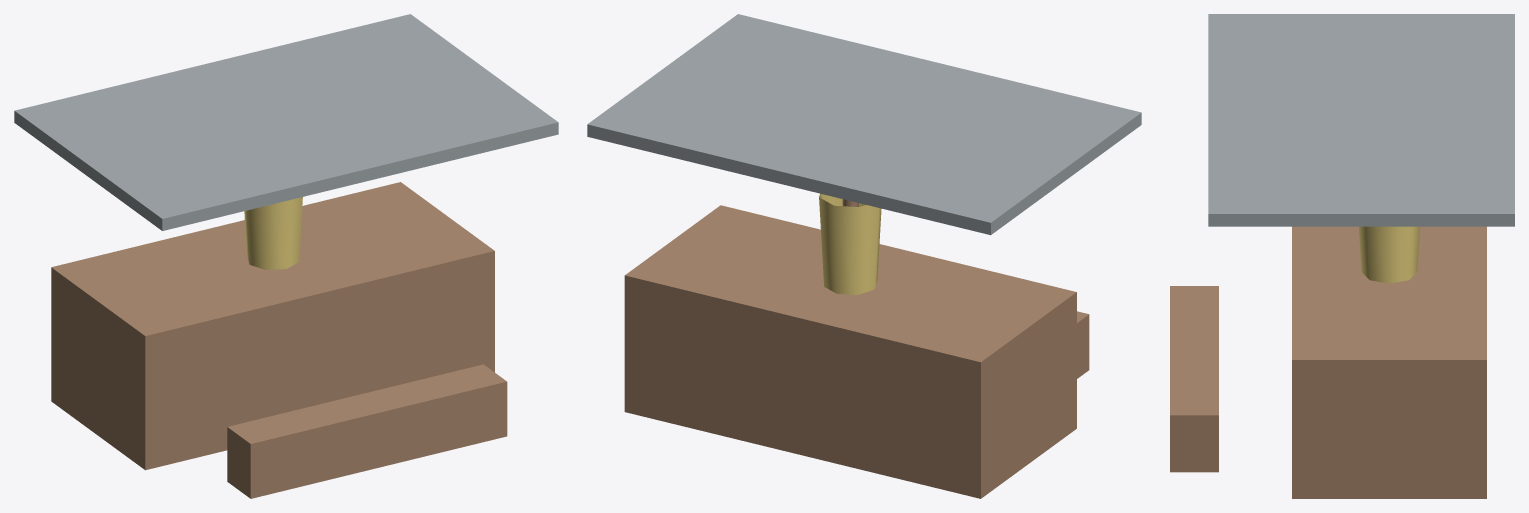
Rendered from tea_kadai_stall.glb.
3 renders of one model, left to right at view 1: azimuth 30°, elevation 25°; view 2: azimuth 150°, elevation 25°; view 3: azimuth 270°, elevation 25°, orthographic. The views are drawn at different scales.
Parts seen in each view (by area): view 1: Stall_Counter_Node, Tin_Canopy_Node, Wooden_Bench_Node, Brass_Samovar_Node; view 2: Stall_Counter_Node, Tin_Canopy_Node, Brass_Samovar_Node, Wooden_Bench_Node; view 3: Tin_Canopy_Node, Stall_Counter_Node, Wooden_Bench_Node, Brass_Samovar_Node.
Part boxes in pixels (left/top/right/bottom): Stall_Counter_Node: left=51, top=182, right=494, bottom=470; Tin_Canopy_Node: left=14, top=14, right=558, bottom=230; Wooden_Bench_Node: left=227, top=364, right=507, bottom=498; Brass_Samovar_Node: left=244, top=197, right=302, bottom=269; Stall_Counter_Node: left=624, top=205, right=1076, bottom=498; Tin_Canopy_Node: left=587, top=14, right=1141, bottom=235; Brass_Samovar_Node: left=819, top=193, right=881, bottom=294; Wooden_Bench_Node: left=1077, top=311, right=1089, bottom=378; Tin_Canopy_Node: left=1208, top=14, right=1514, bottom=226; Stall_Counter_Node: left=1292, top=226, right=1486, bottom=498; Wooden_Bench_Node: left=1170, top=286, right=1218, bottom=472; Brass_Samovar_Node: left=1359, top=226, right=1419, bottom=283.
Size of the model in its own units: 3.4 by 2.35 by 2.48.
